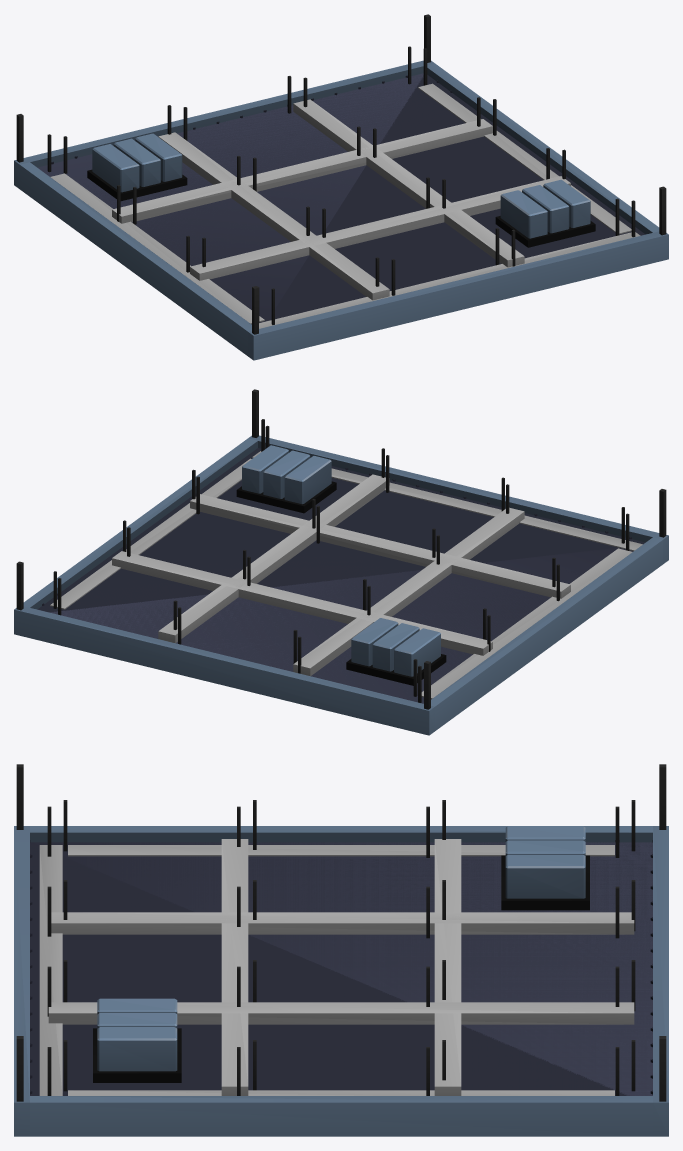
File: veyran_ore_silo_foundation.glb
3 views of the same model, one above another, from view 1: azimuth 30°, elevation 25°; view 2: azimuth 150°, elevation 25°; view 3: azimuth 270°, elevation 25° (orthographic). The views are drawn at different scales.
Visible parts, largest first — view 1: body (×3); view 2: body (×3); view 3: body (×3).
Boxes of the visible parts, x1,y1,x2,y2 form: body (×3): (14, 14, 668, 360); body (×3): (14, 389, 668, 735); body (×3): (14, 764, 668, 1136).
Bounding box in the file's own units: 7.38 × 1.2 × 7.38.
